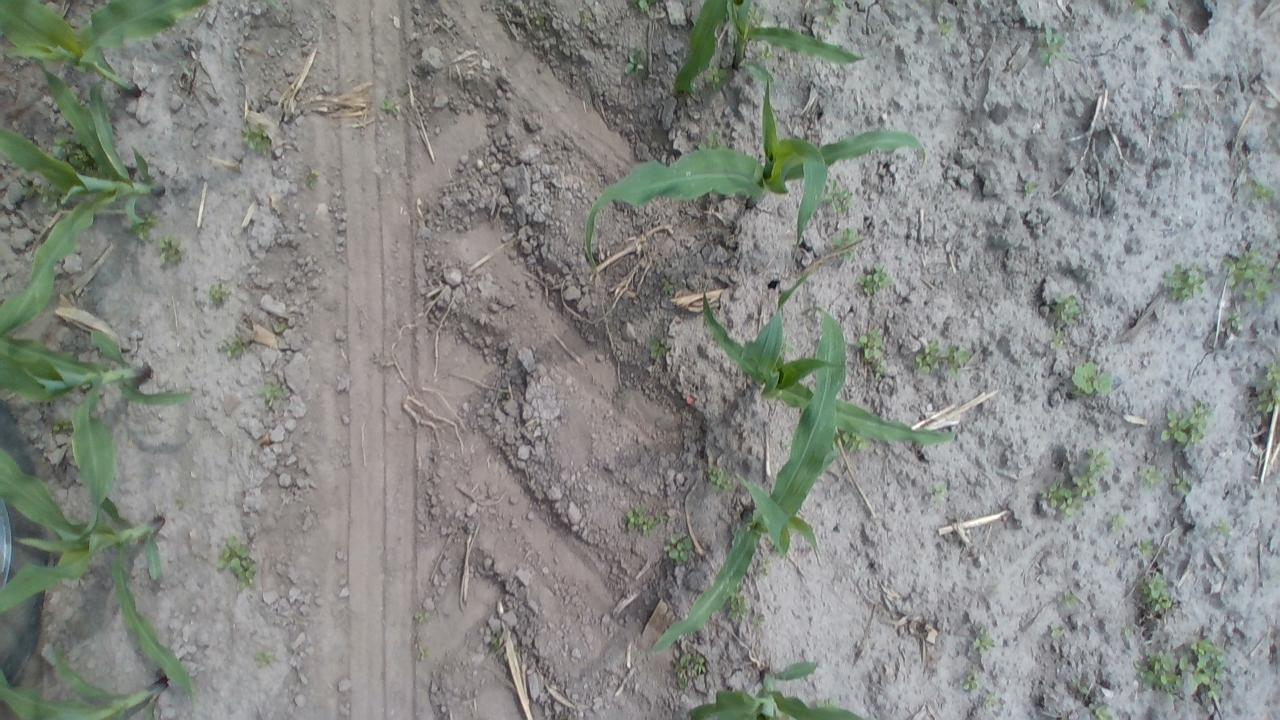Maize: (648, 280, 881, 652), (580, 92, 934, 276), (0, 391, 195, 702), (696, 278, 962, 450), (0, 61, 164, 338), (674, 0, 880, 146), (0, 0, 210, 100), (1, 325, 193, 417), (684, 655, 872, 720), (0, 648, 165, 720), (675, 0, 733, 98)
Weeds: (1040, 442, 1112, 514), (1222, 249, 1274, 308), (1184, 636, 1229, 702), (1136, 647, 1186, 697), (1159, 400, 1211, 446), (217, 535, 259, 589), (1158, 263, 1208, 304), (52, 132, 96, 176), (917, 341, 970, 376), (1137, 571, 1176, 618), (1069, 361, 1115, 398), (674, 650, 708, 693), (1041, 485, 1082, 518), (1252, 362, 1276, 417), (24, 184, 70, 212), (824, 182, 856, 220), (1040, 26, 1068, 68), (857, 263, 892, 295), (240, 120, 272, 152), (1055, 292, 1083, 328), (626, 506, 661, 534), (662, 534, 694, 564), (861, 328, 885, 368), (128, 210, 158, 241), (724, 592, 754, 622), (155, 236, 184, 266), (830, 224, 860, 253), (704, 462, 731, 494), (624, 46, 648, 76), (819, 2, 846, 28), (1055, 586, 1081, 612), (264, 378, 290, 404), (1136, 463, 1162, 489), (220, 334, 248, 358), (840, 429, 869, 450), (972, 627, 996, 652), (207, 281, 230, 307), (1250, 180, 1274, 204), (1106, 510, 1130, 534), (647, 335, 669, 360), (936, 17, 958, 40), (960, 668, 981, 692), (705, 64, 725, 89), (1048, 329, 1070, 351), (1170, 473, 1191, 496), (378, 94, 399, 116), (698, 132, 721, 152), (1134, 538, 1156, 558), (930, 481, 950, 502), (255, 648, 278, 666), (1128, 0, 1152, 17), (1091, 703, 1115, 719), (1212, 518, 1232, 537), (414, 640, 431, 662), (306, 166, 320, 192), (414, 607, 434, 625), (632, 0, 656, 15), (656, 274, 674, 294), (50, 418, 70, 436), (486, 632, 504, 652), (1228, 310, 1244, 332), (756, 42, 774, 61), (1022, 179, 1040, 196), (533, 10, 550, 26), (758, 557, 772, 576), (1069, 681, 1088, 695), (982, 694, 997, 710), (1048, 623, 1063, 638), (263, 1, 281, 12)
